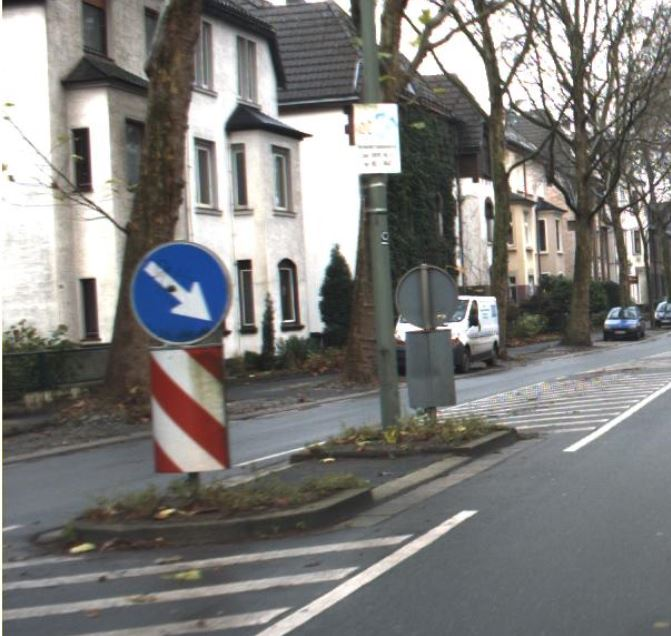Sagdan Git: (129, 242, 227, 345)
